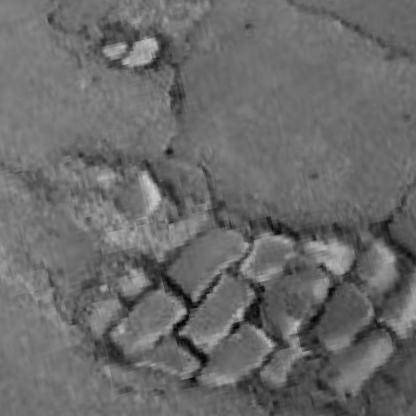pothole: (75, 178, 416, 416), (91, 10, 170, 79)
